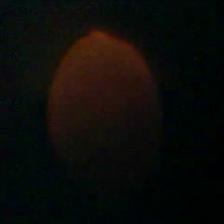fertile: (47, 34, 164, 208)
